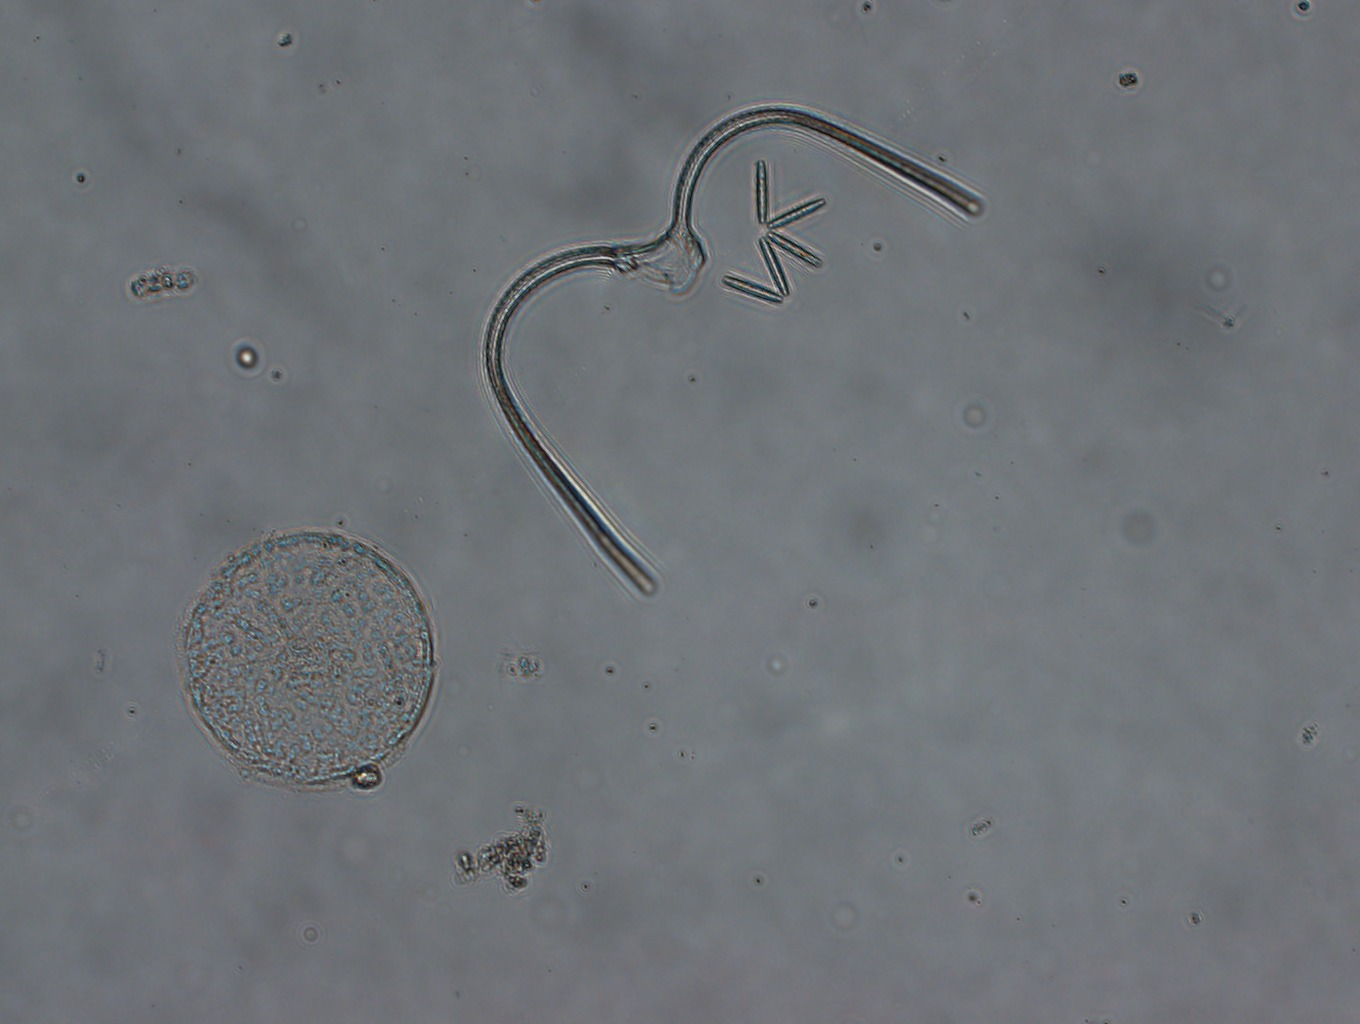ceratium trichoceros: (478, 105, 986, 600)
coscinodiscus: (181, 526, 439, 790)
thalassionema nitzschioides: (719, 159, 824, 305)
